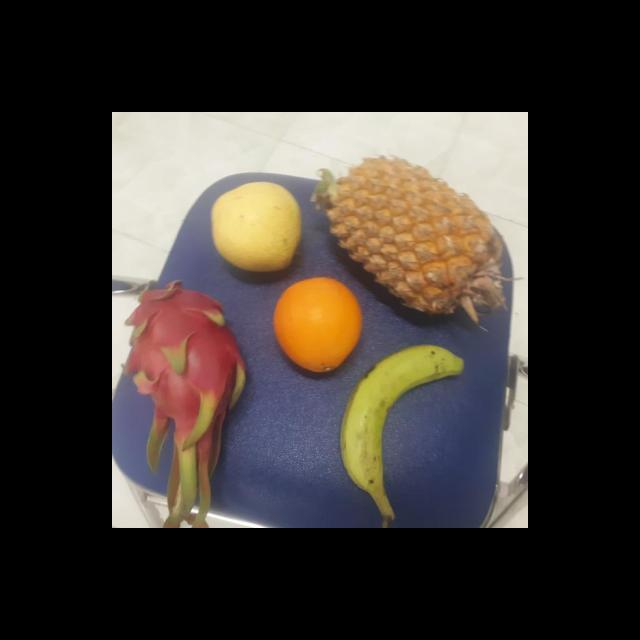banana: (332, 348, 458, 501)
orange: (271, 275, 362, 373)
pear: (206, 182, 306, 276)
pineapple: (315, 164, 501, 320)
pitaya: (125, 282, 247, 457)
